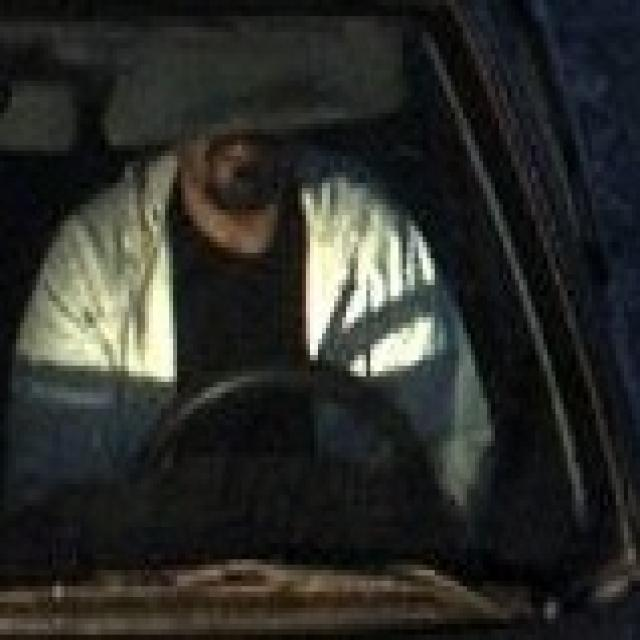No-seat-belt: (36, 54, 564, 533)
